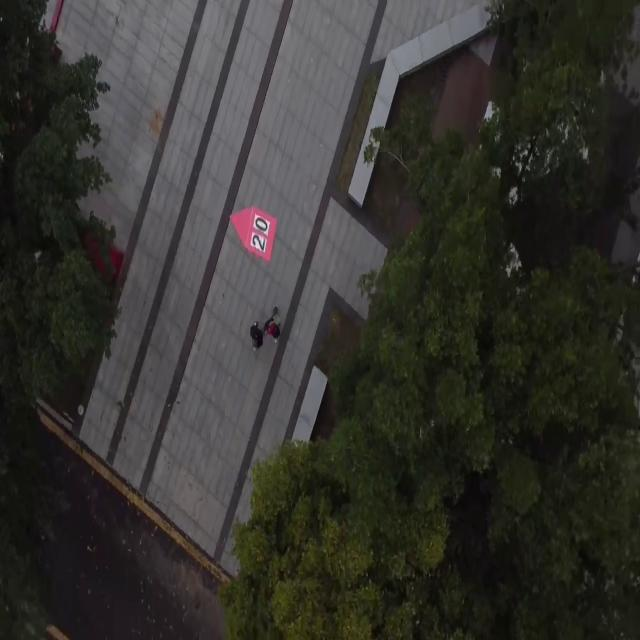-sign-: (229, 205, 277, 263)
